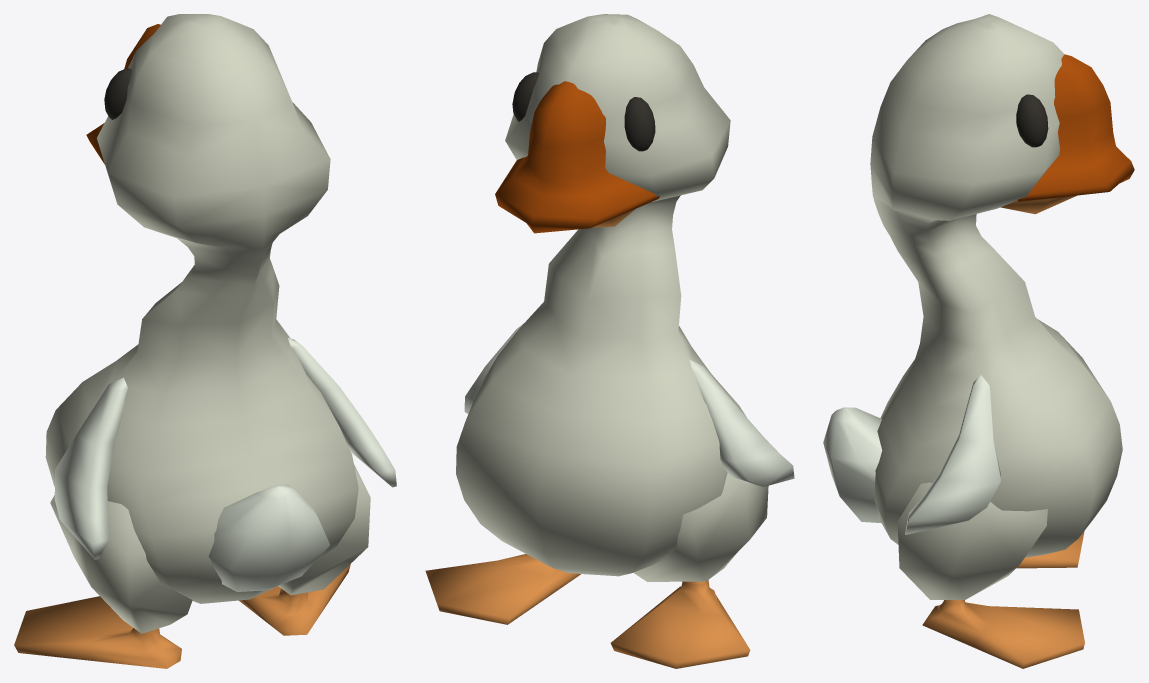
The model's file is GooseCaro.fbx.
3 renders of one model, left to right at view 1: azimuth 30°, elevation 25°; view 2: azimuth 150°, elevation 25°; view 3: azimuth 270°, elevation 25°, orthographic. The views are drawn at different scales.
Parts seen in each view (by area): view 1: Body, Tail, footL, WingL, WingR, FootR; view 2: Body, footL, FootR, WingL, WingR; view 3: Body, FootR, WingR, Tail, footL, Plane.011.
Boxes of the visible parts, x1,y1,x2,y2 form: Body: (45,14,370,633); Tail: (208,484,329,591); footL: (14,596,181,668); WingL: (54,377,127,559); WingR: (288,337,396,487); FootR: (239,564,350,635); Body: (456,14,768,581); footL: (610,580,750,668); FootR: (425,554,580,624); WingL: (689,359,794,486); WingR: (464,323,523,413); Body: (870,14,1134,599); FootR: (922,600,1084,668); WingR: (905,375,1000,534); Tail: (823,407,882,523); footL: (1016,531,1084,568); Plane.011: (1000,195,1076,214).
Bounding box in the file's own units: 96.5 × 166 × 81.99.
